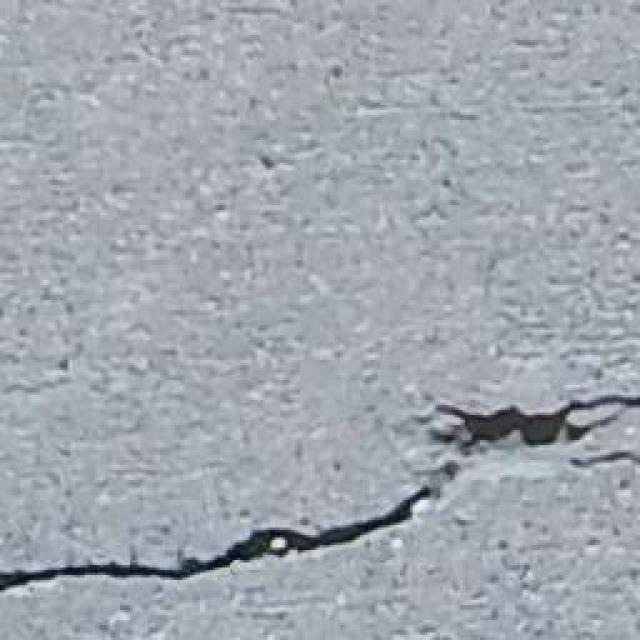concrete-crack: (0, 388, 640, 598)
